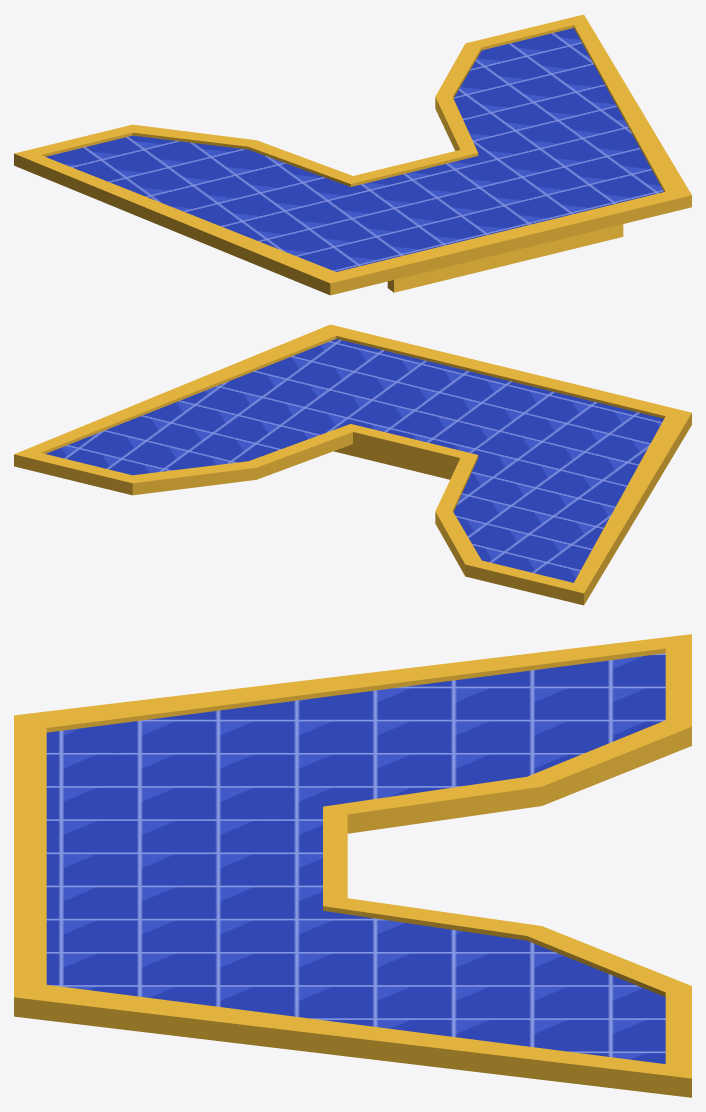
The model's file is Solar 3.fbx.
3 renders of one model, top to bottom at view 1: azimuth 30°, elevation 25°; view 2: azimuth 150°, elevation 25°; view 3: azimuth 270°, elevation 25°, orthographic. The views are drawn at different scales.
Parts seen in each view (by area): view 1: Solar 3; view 2: Solar 3; view 3: Solar 3.
Part boxes in pixels (<box>): Solar 3: <box>14,14,691,295</box>; Solar 3: <box>14,324,691,605</box>; Solar 3: <box>14,634,691,1097</box>.
Size of the model in its own units: 27.58 by 1.26 by 17.78.
